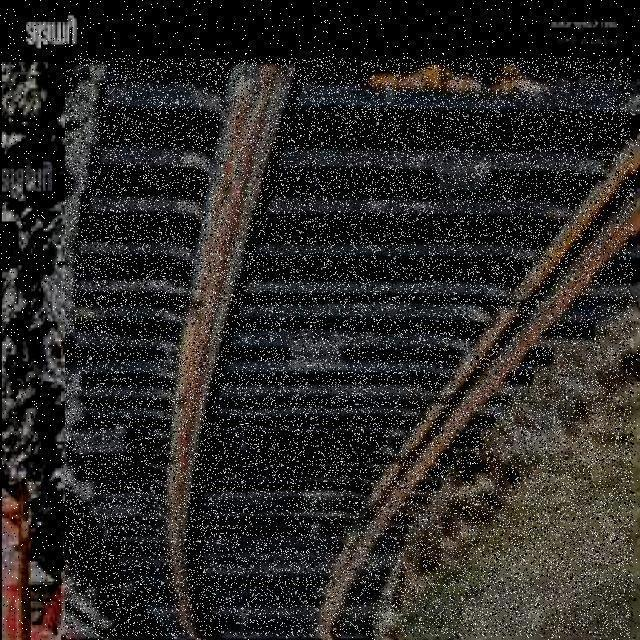rail: (66, 59, 633, 636)
